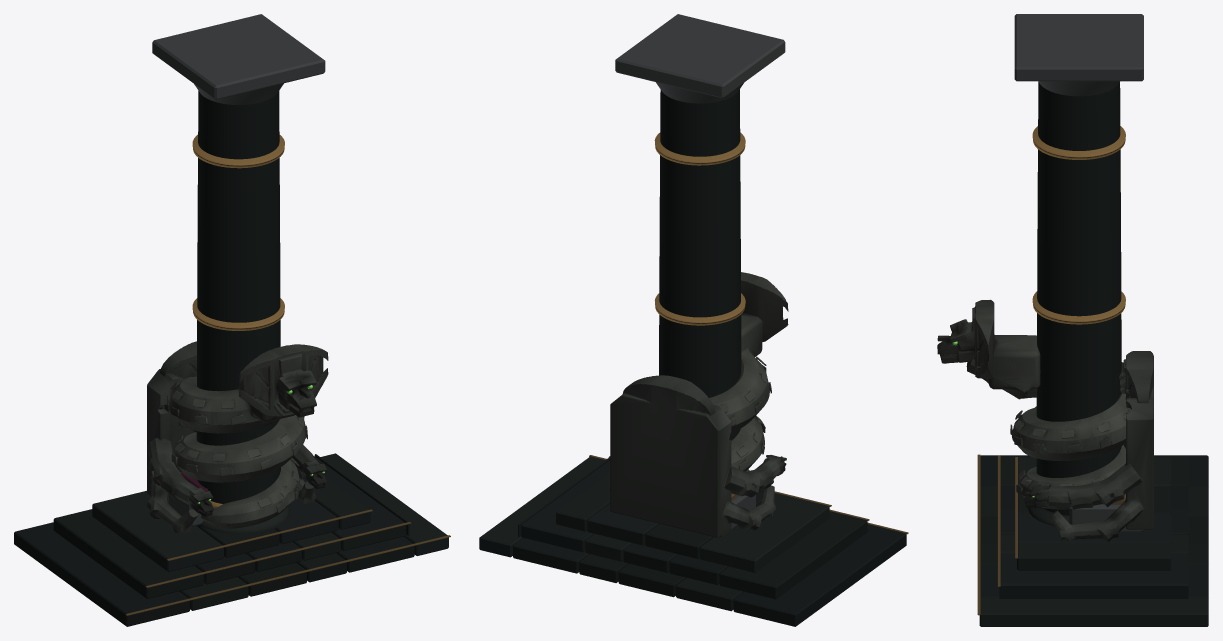
The model's file is env_stage5_forms_r32.glb.
The picture shows the model from 3 angles, left to right: view 1: azimuth 30°, elevation 25°; view 2: azimuth 150°, elevation 25°; view 3: azimuth 270°, elevation 25°; orthographic projection. The views are drawn at different scales.
Parts seen in each view (by area): view 1: pillar, throne, pillar_lo; view 2: throne, pillar, pillar_lo; view 3: pillar, throne, pillar_lo.
Part boxes in pixels (box(x1,y1,x2,y2)): pillar: box(152, 14, 327, 533); throne: box(14, 341, 450, 626); pillar_lo: box(169, 344, 328, 528); throne: box(479, 375, 908, 626); pillar: box(615, 14, 787, 471); pillar_lo: box(709, 274, 788, 471); pillar: box(937, 14, 1143, 526); throne: box(977, 351, 1208, 626); pillar_lo: box(937, 300, 1130, 509).
Bounding box in the file's own units: 7.6 × 11.26 × 5.45.
